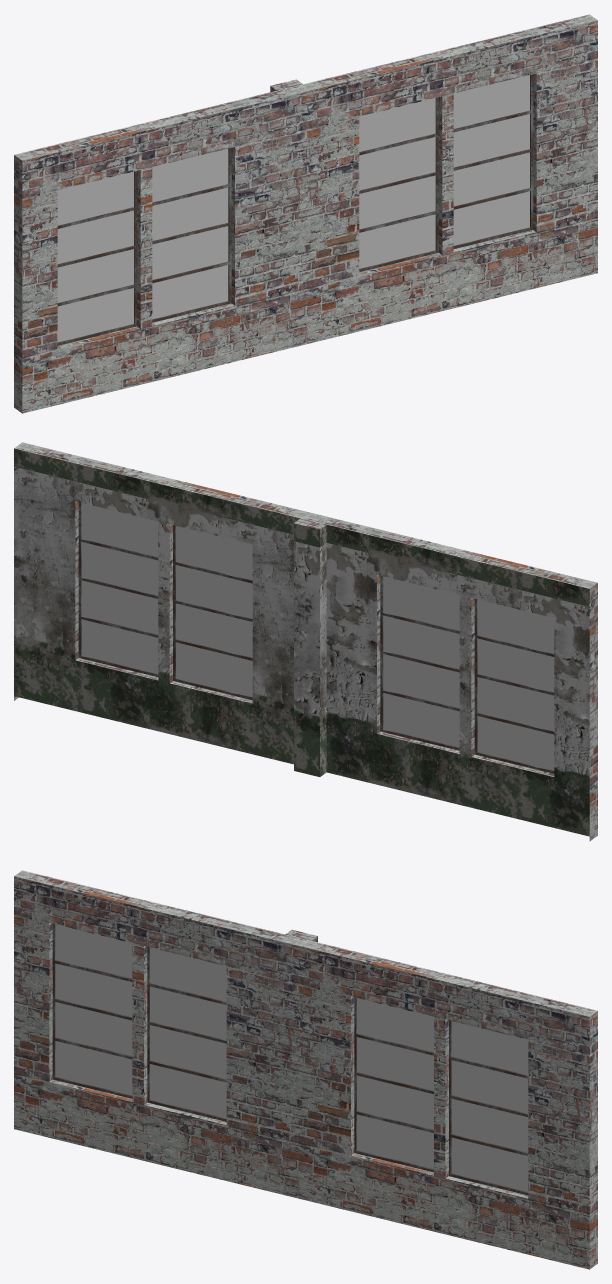
The model's file is Factory2Wall05.FBX.
3 renders of one model, top to bottom at view 1: azimuth 30°, elevation 25°; view 2: azimuth 150°, elevation 25°; view 3: azimuth 330°, elevation 25°, orthographic.
Visible parts, largest first — view 1: Factory2Wall05, Factory2Wall05Glass; view 2: Factory2Wall05, Factory2Wall05Glass; view 3: Factory2Wall05, Factory2Wall05Glass.
Boxes of the visible parts, x1=… form: Factory2Wall05: x1=14, y1=14, x2=597, y2=413; Factory2Wall05Glass: x1=57, y1=75, x2=529, y2=342; Factory2Wall05: x1=14, y1=442, x2=597, y2=841; Factory2Wall05Glass: x1=81, y1=503, x2=554, y2=770; Factory2Wall05: x1=14, y1=870, x2=597, y2=1269; Factory2Wall05Glass: x1=55, y1=924, x2=528, y2=1191.
Bounding box in the file's own units: 1200 × 503 × 53.83.
